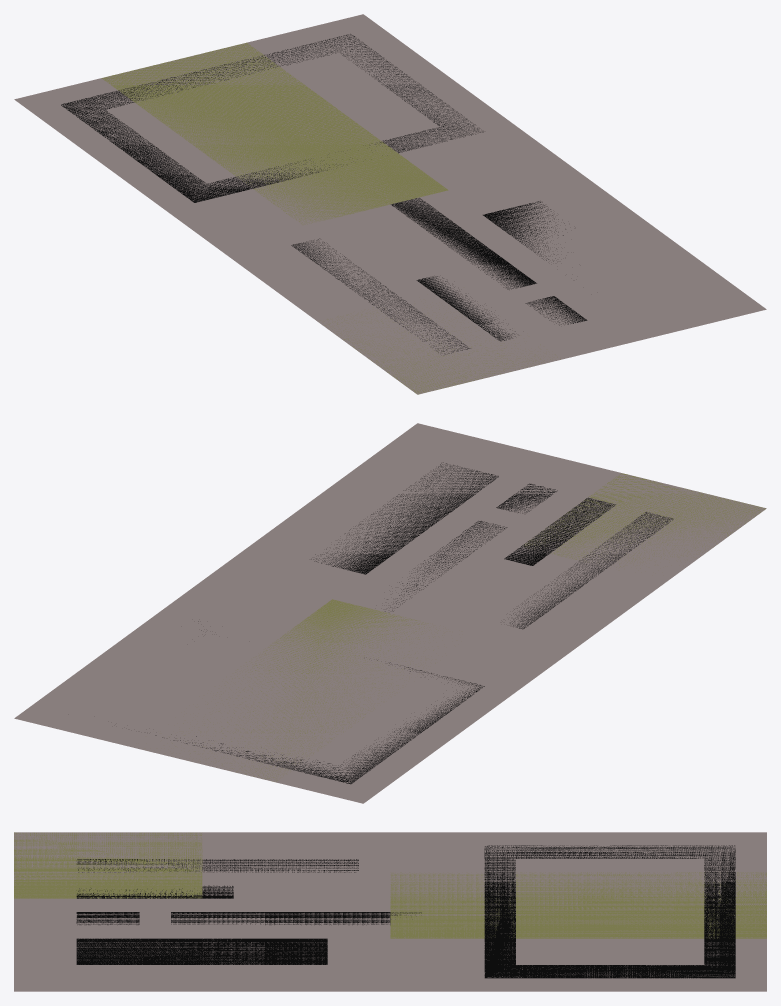
The model's file is inv_address_label.obj.
The picture shows the model from 3 angles, top to bottom: view 1: azimuth 30°, elevation 25°; view 2: azimuth 150°, elevation 25°; view 3: azimuth 270°, elevation 25°; orthographic projection. The views are drawn at different scales.
Size of the model in its own units: 0.1875 by 0 by 0.375.
